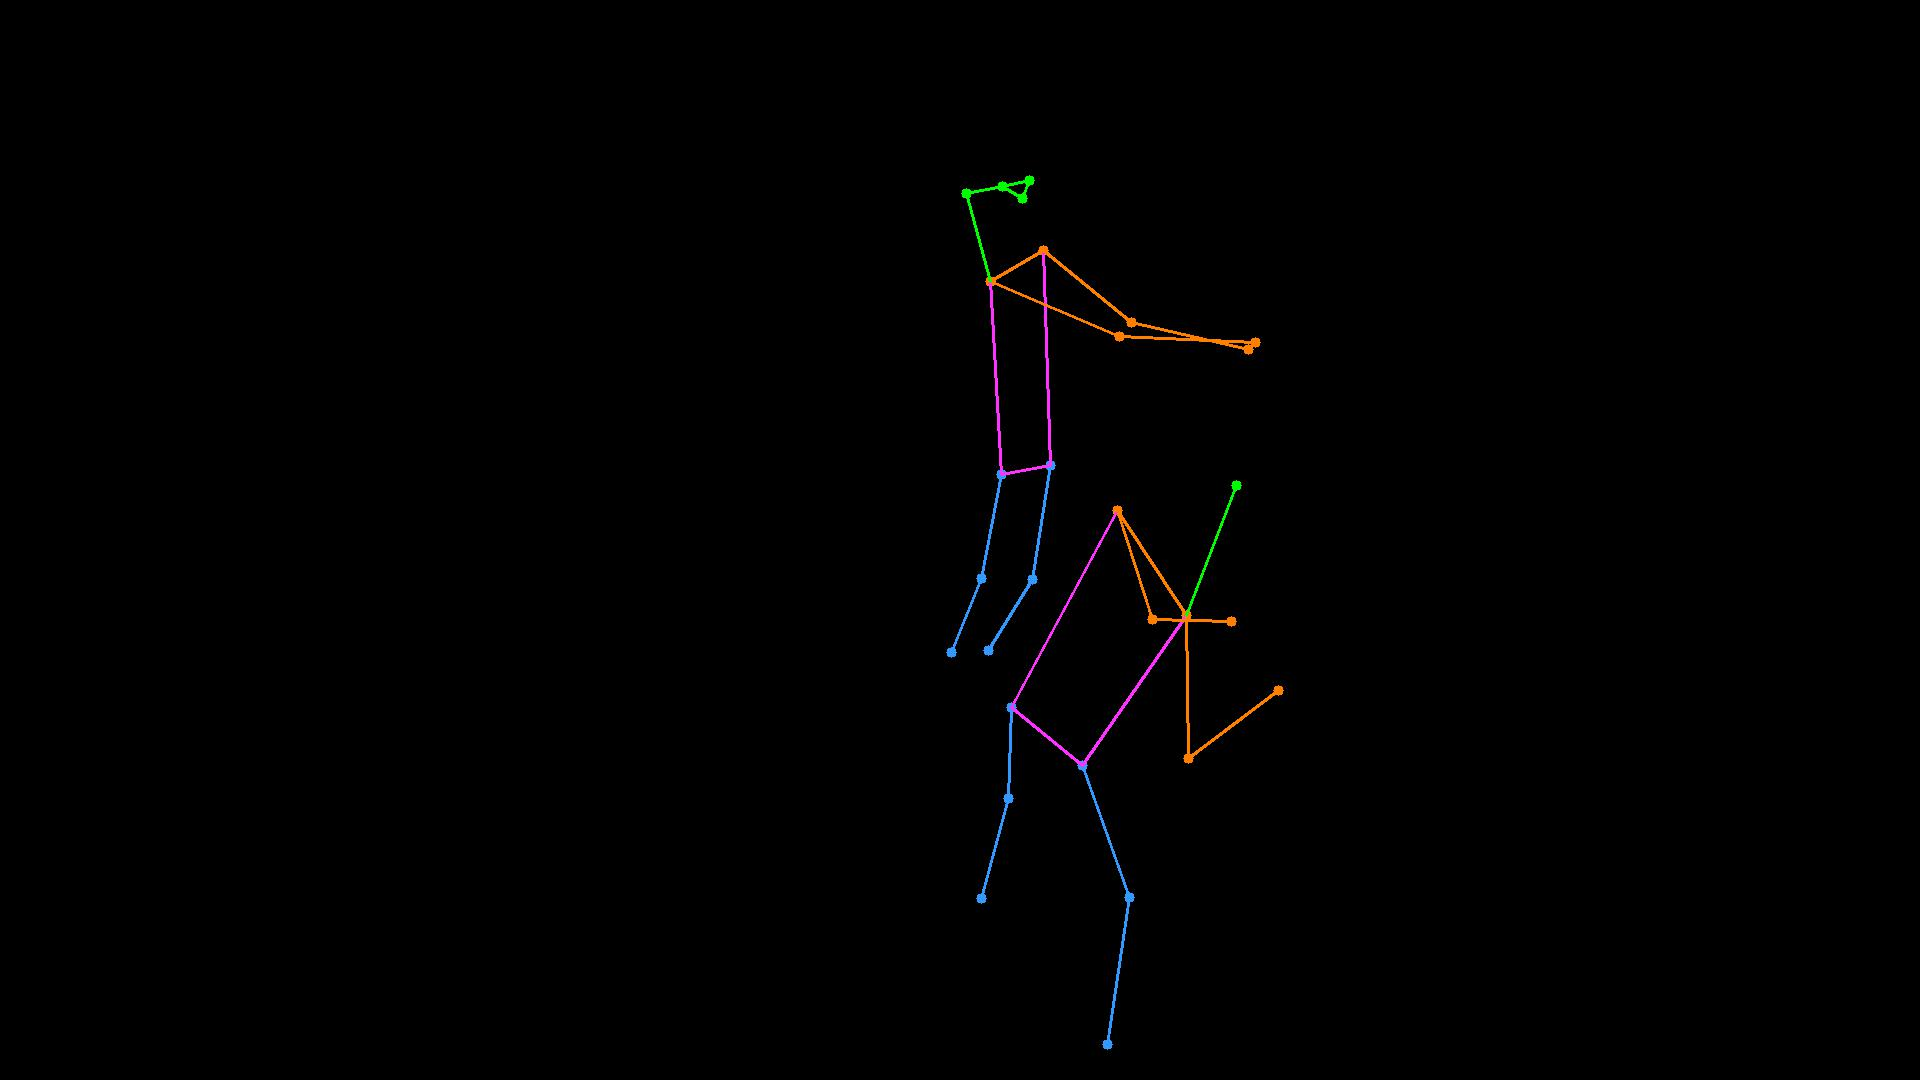normal: (964, 465, 1300, 1065), (936, 145, 1284, 667)
